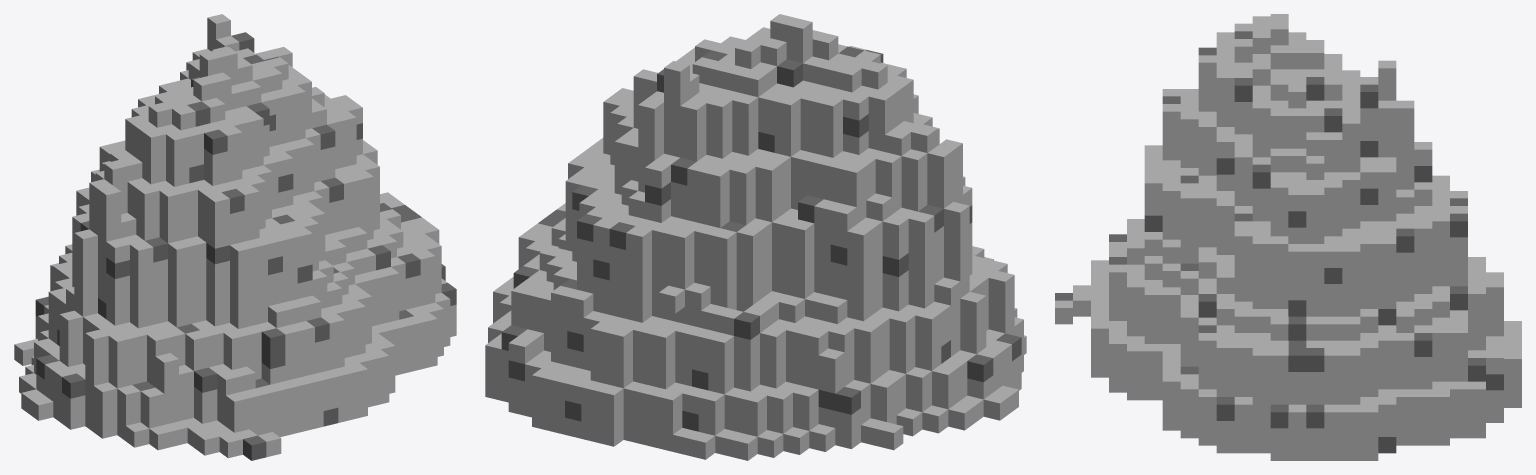
File: notflatrock.obj
3 renders of one model, left to right at view 1: azimuth 30°, elevation 25°; view 2: azimuth 150°, elevation 25°; view 3: azimuth 270°, elevation 25°, orthographic. The views are drawn at different scales.
Visible parts, largest first — view 1: notflatrock; view 2: notflatrock; view 3: notflatrock.
Boxes of the visible parts, <box> form: notflatrock: <box>14,14,456,460</box>; notflatrock: <box>485,14,1026,460</box>; notflatrock: <box>1055,14,1521,460</box>.
Size of the model in its own units: 28 by 20 by 26.
Materials: 1 (1 with a texture image).
